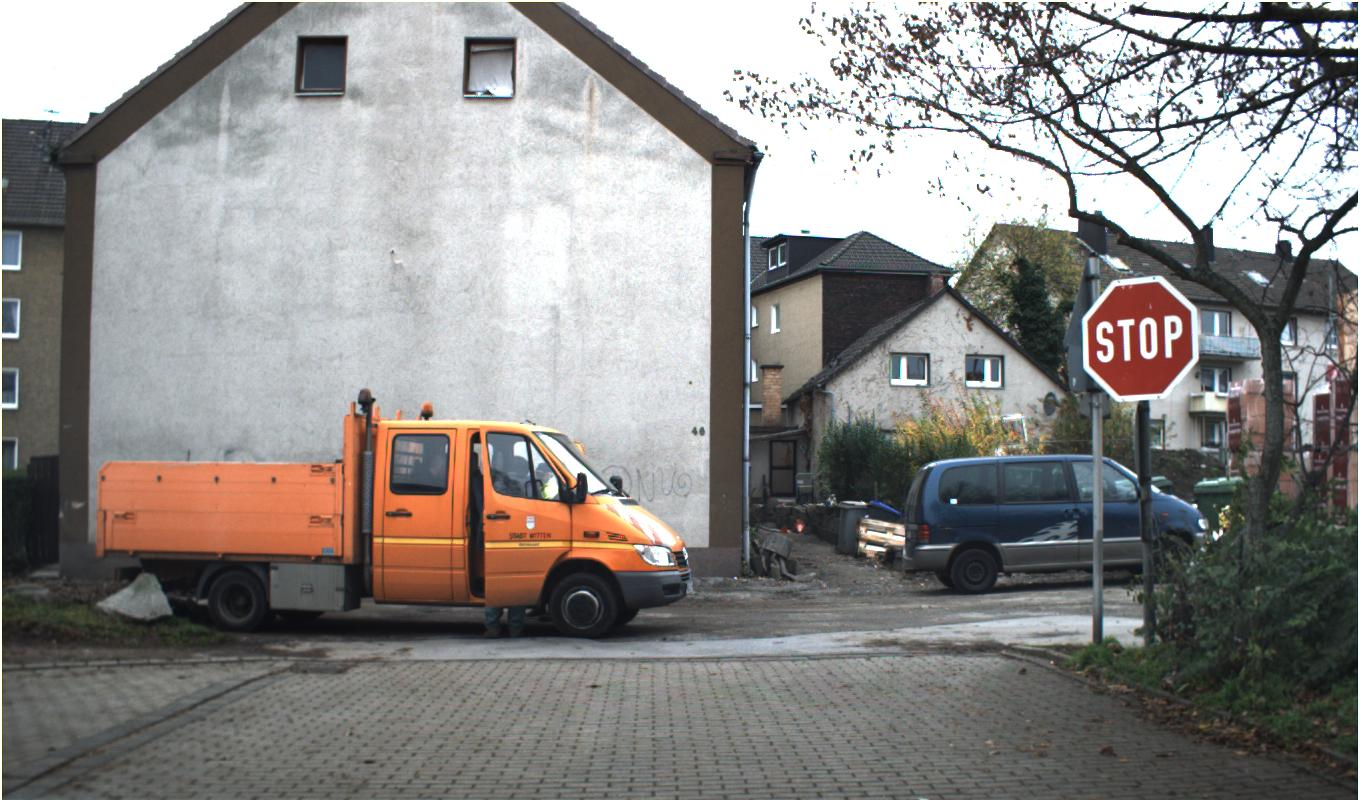sign: (1081, 274, 1199, 402)
